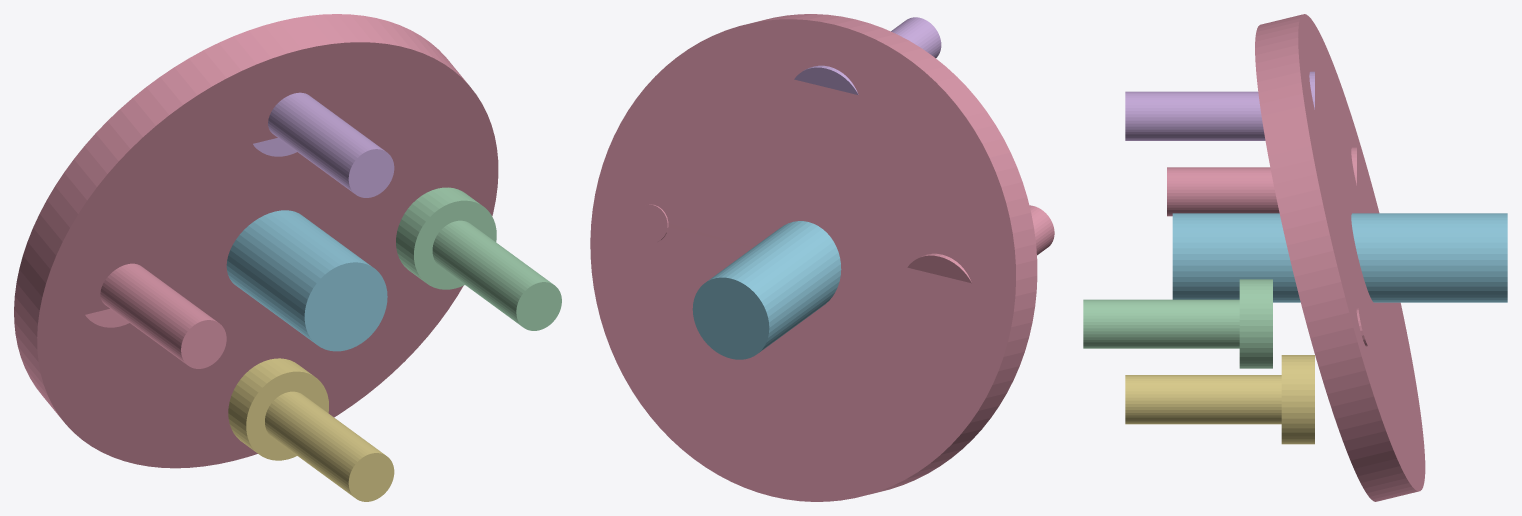
The model's file is swash_plate_demo.glb.
3 views of the same model, side by side, from view 1: azimuth 30°, elevation 25°; view 2: azimuth 150°, elevation 25°; view 3: azimuth 270°, elevation 25° (orthographic). The views are drawn at different scales.
Parts seen in each view (by area): view 1: plate, shaft, shoe_3, shoe_0, shoe_1, shoe_2; view 2: plate, shaft, shoe_1, shoe_2; view 3: plate, shaft, shoe_0, shoe_3, shoe_1, shoe_2.
Part boxes in pixels (bbox=[...]): plate: bbox=[14, 14, 498, 468]; shaft: bbox=[226, 210, 387, 351]; shoe_3: bbox=[228, 358, 394, 501]; shoe_0: bbox=[396, 187, 561, 330]; shoe_1: bbox=[253, 92, 394, 197]; shoe_2: bbox=[85, 263, 226, 368]; plate: bbox=[590, 14, 1037, 501]; shaft: bbox=[692, 221, 841, 359]; shoe_1: bbox=[794, 17, 941, 94]; shoe_2: bbox=[907, 205, 1054, 283]; plate: bbox=[1255, 14, 1425, 501]; shaft: bbox=[1172, 213, 1507, 302]; shoe_0: bbox=[1083, 279, 1272, 368]; shoe_3: bbox=[1125, 355, 1314, 444]; shoe_1: bbox=[1125, 71, 1314, 140]; shoe_2: bbox=[1167, 147, 1356, 216].
Size of the model in its own units: 44 by 43.54 by 38.
